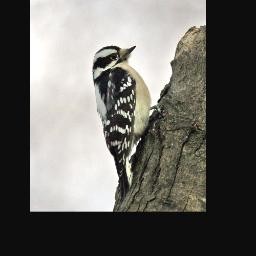Woodpecker: (90, 41, 172, 206)
